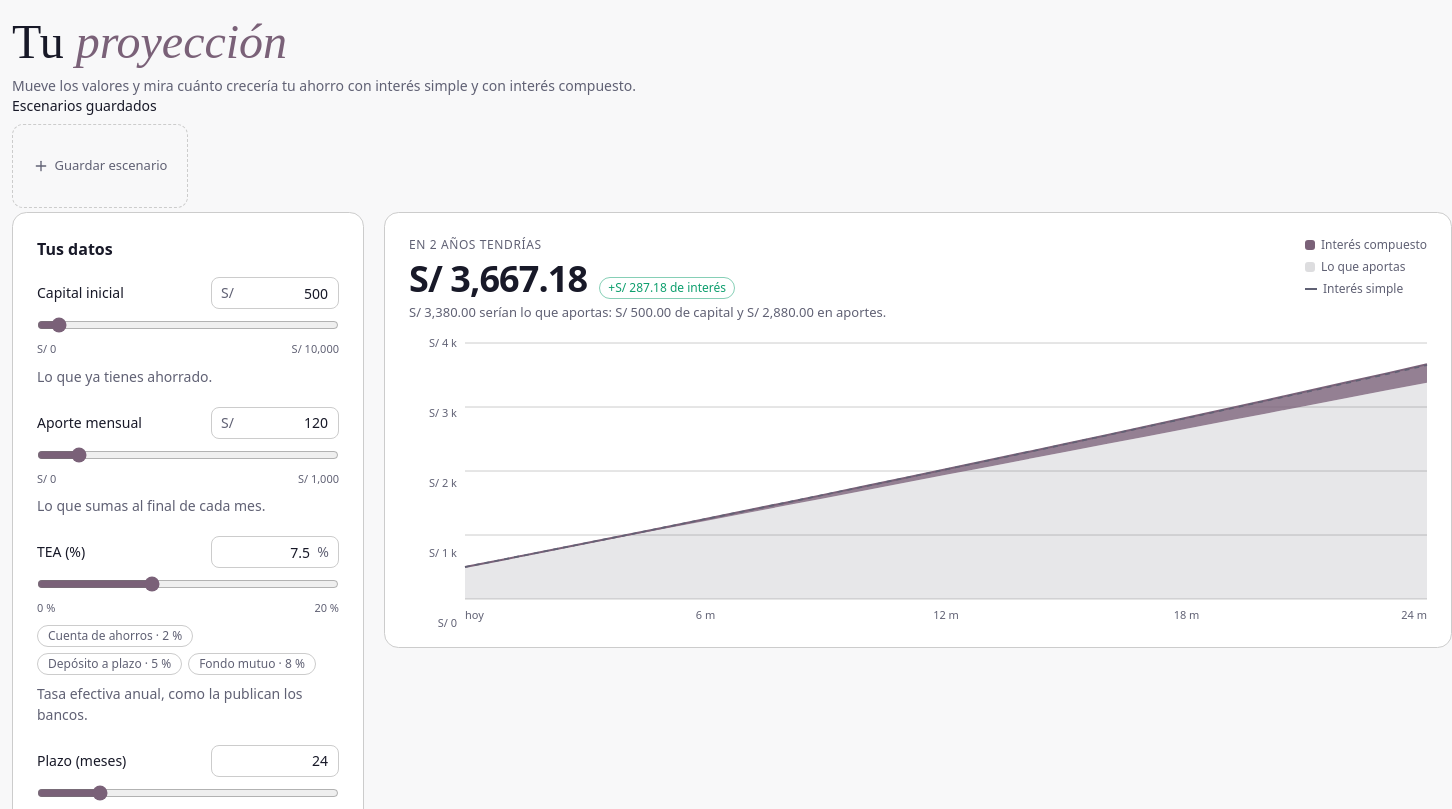
Test case: ProjectionPage › los deslizadores y las tasas de referencia cambian los mismos campos
Step 1. Set the slider named "Plazo (meses), deslizador" to "48" → coordinates (158, 792), box [37,784,339,800]
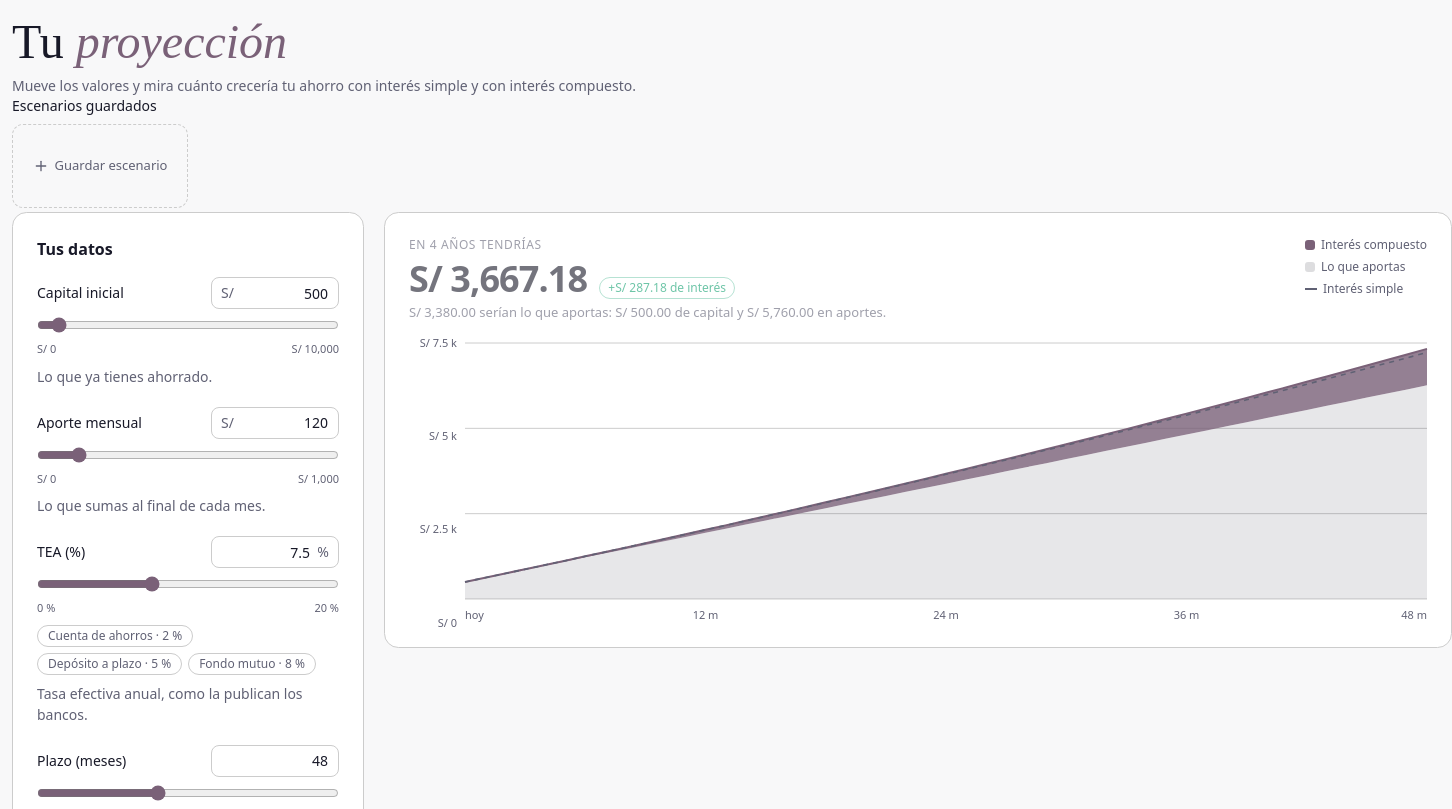
Check: the field labelled "Plazo (meses)" holds "48", box [211,744,339,776]
Step 2. Click the button "Fondo mutuo · 8 %" → coordinates (252, 664), box [188,652,316,674]
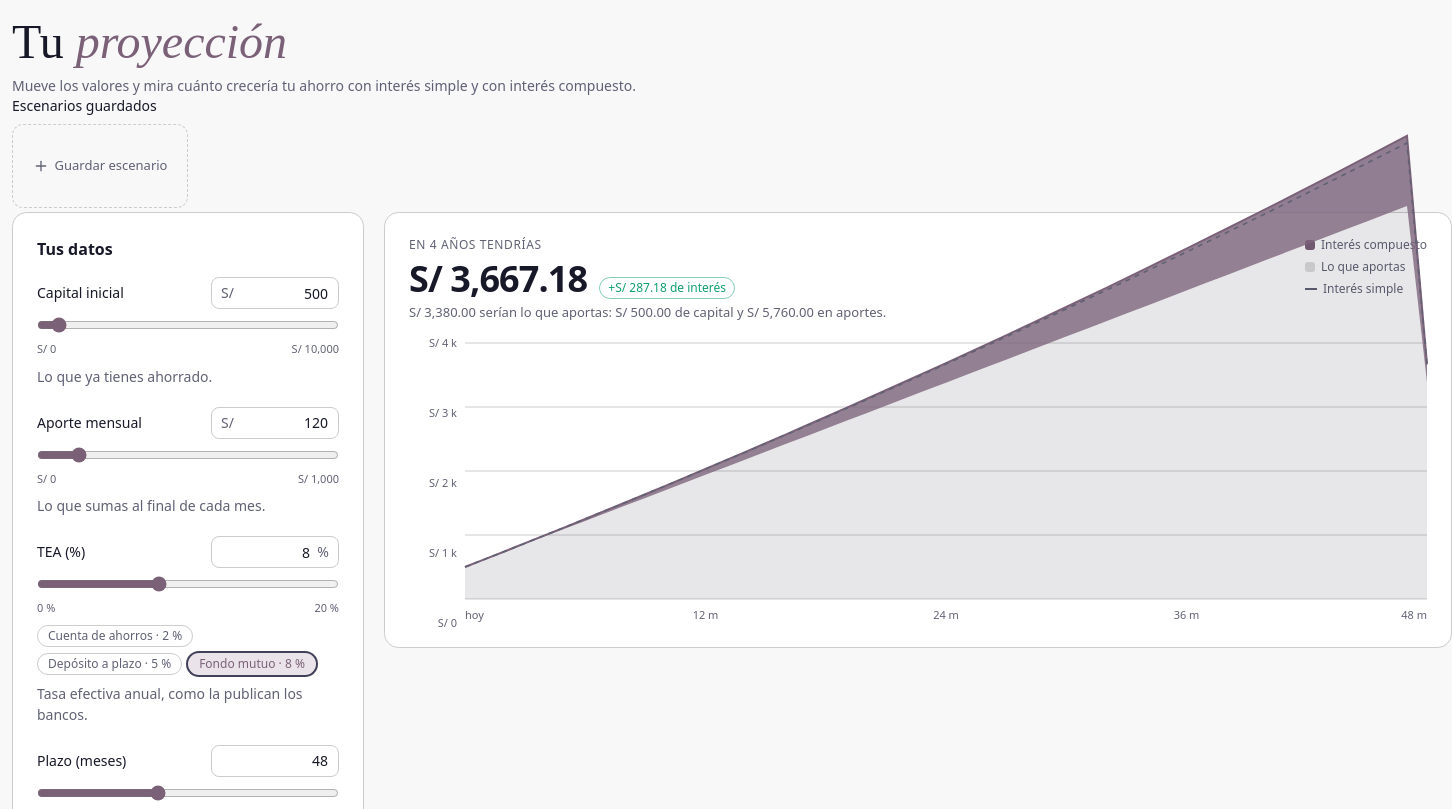
Check: the field labelled "TEA (%)" holds "8", box [211,536,339,568]
